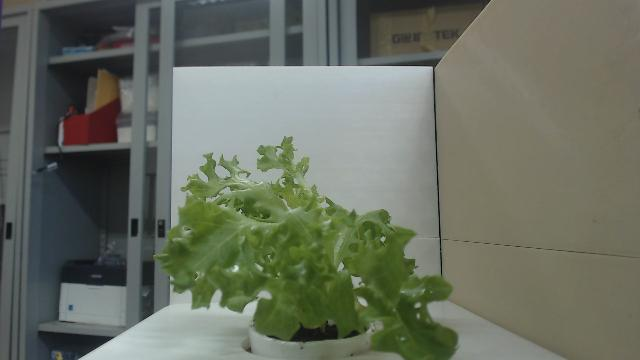Harvest Stage: (152, 136, 462, 360)
